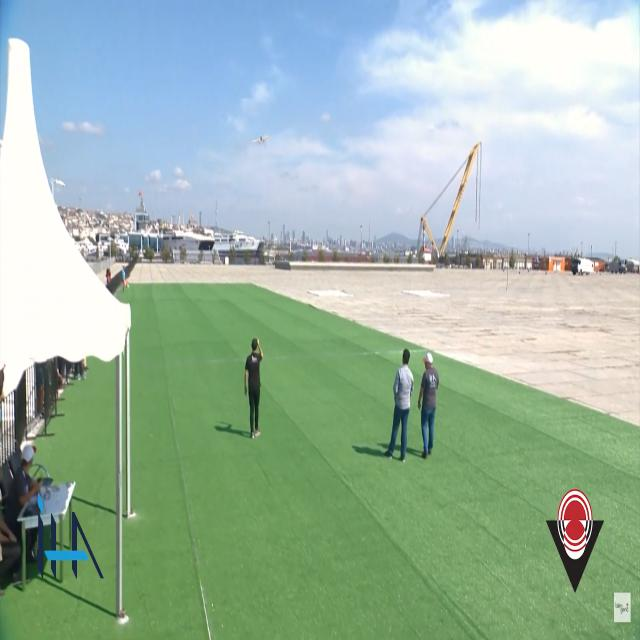iha: (252, 130, 270, 136)
